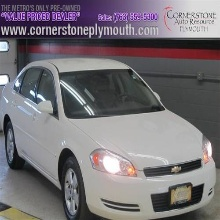no damage: (3, 57, 216, 220)
